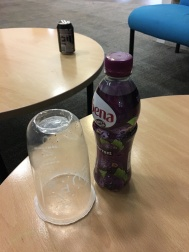bottle_purple: (87, 50, 146, 198)
